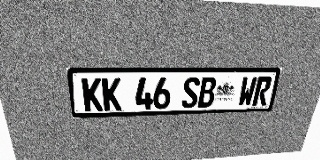4: (135, 77, 153, 110)
6: (153, 77, 171, 109)
B: (197, 77, 217, 108)
K: (81, 78, 103, 111), (102, 78, 122, 111)
R: (252, 77, 273, 106)
S: (181, 77, 200, 108)
W: (237, 77, 258, 106)
